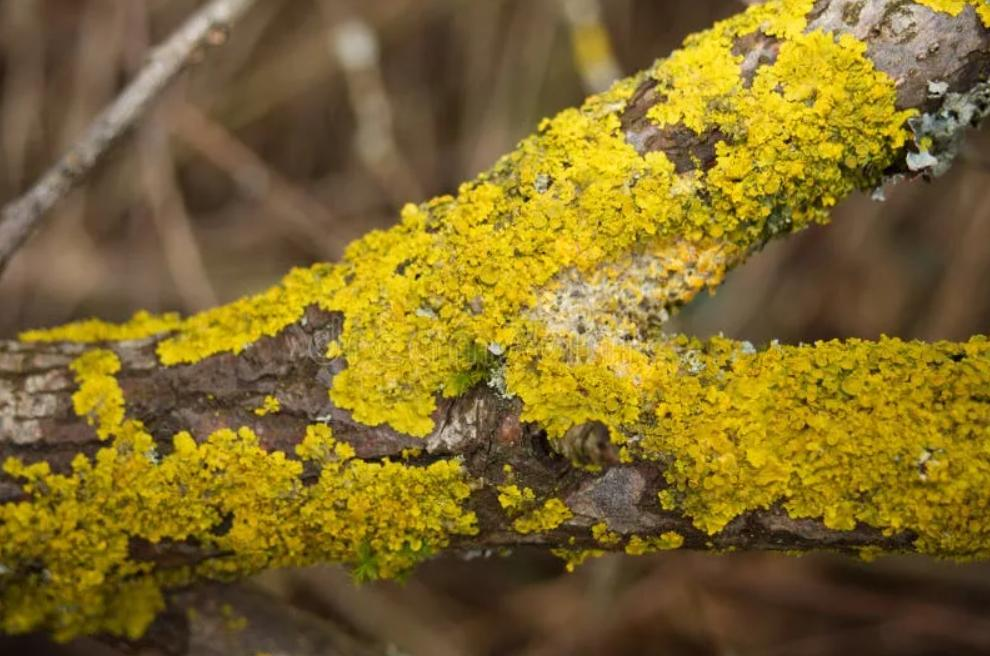lichen: (161, 1, 989, 559), (5, 349, 478, 641), (22, 265, 328, 362)
